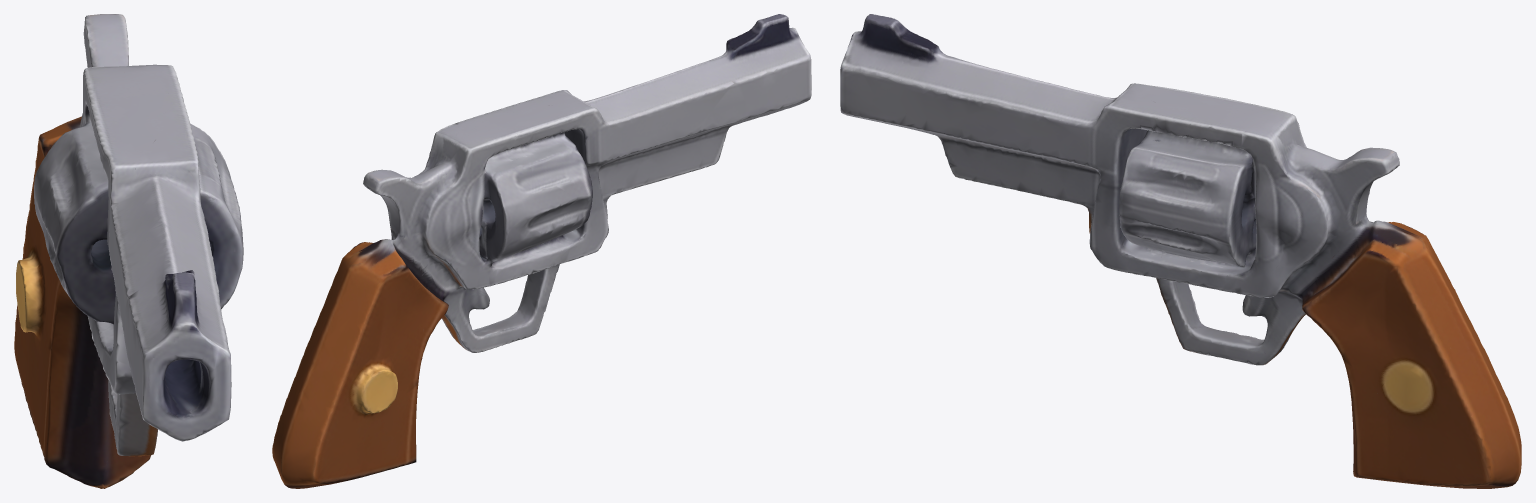
Rendered from revolver.glb.
3 renders of one model, left to right at view 1: azimuth 30°, elevation 25°; view 2: azimuth 150°, elevation 25°; view 3: azimuth 270°, elevation 25°, orthographic. The views are drawn at different scales.
Parts seen in each view (by area): view 1: revolver; view 2: revolver; view 3: revolver.
Part boxes in pixels (<box>): revolver: <box>14,14,243,488</box>; revolver: <box>272,14,811,488</box>; revolver: <box>840,14,1521,488</box>.
Size of the model in its own units: 0.3585 by 0.4252 by 0.7141.
Materials: 1 (1 with a texture image).
